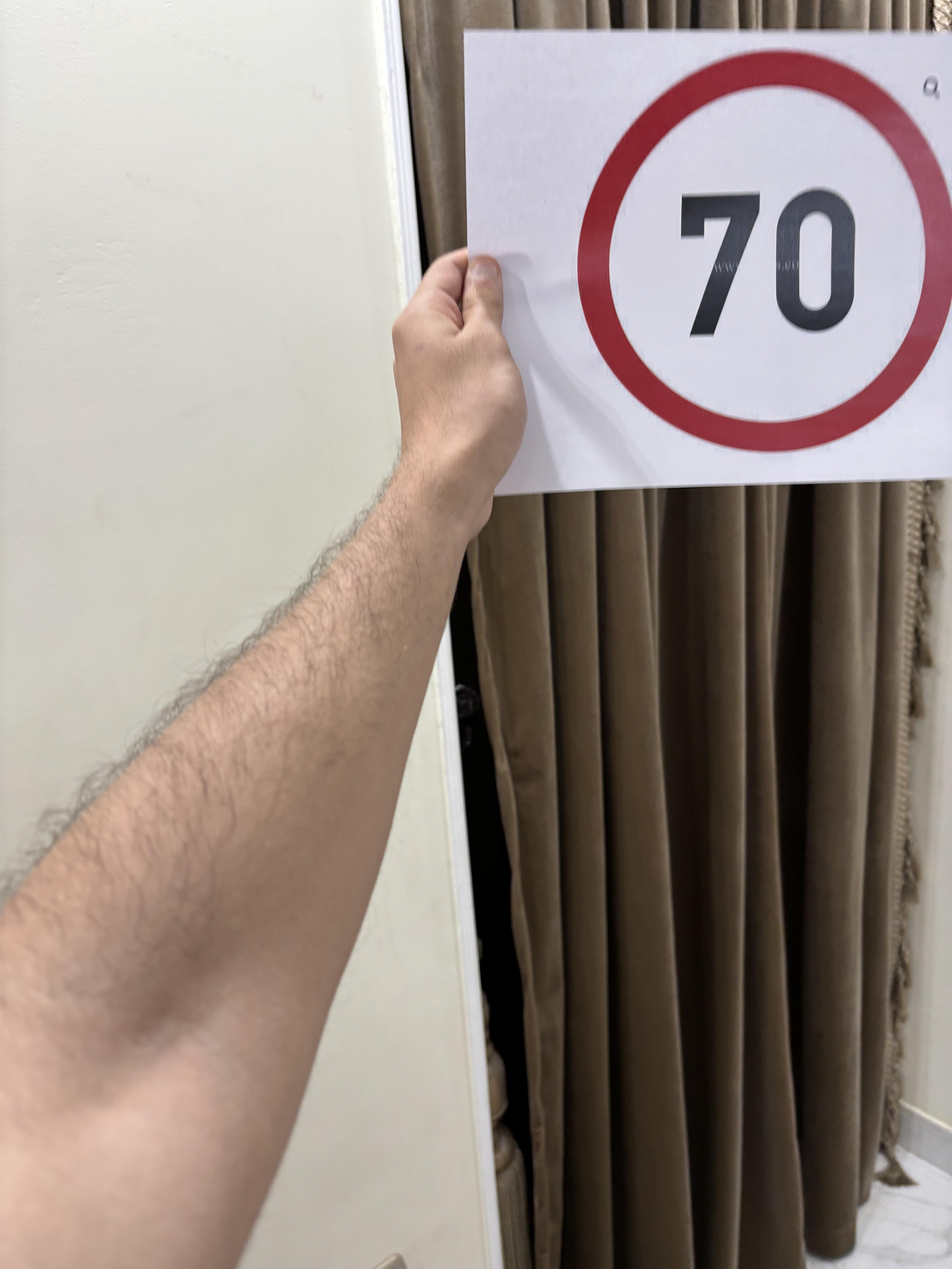70-Speed: (571, 45, 952, 451)
